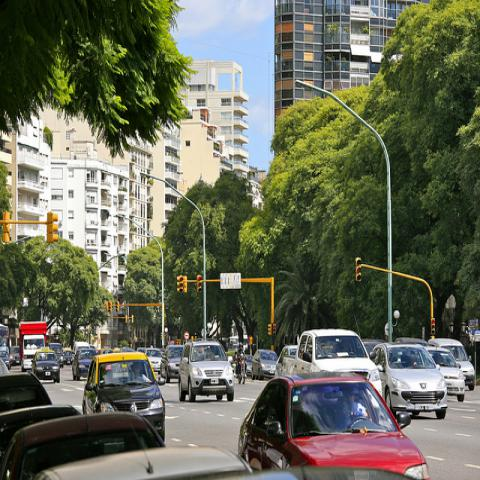car: (236, 371, 430, 479), (0, 410, 167, 479), (81, 352, 165, 441), (370, 342, 449, 423), (178, 339, 234, 403), (428, 338, 476, 390), (426, 348, 467, 404), (31, 350, 61, 383), (70, 346, 98, 381), (252, 349, 278, 380), (144, 346, 162, 371), (276, 345, 296, 367)
motorcycle: (235, 352, 251, 385)
truck: (282, 329, 381, 396), (19, 321, 47, 372)
